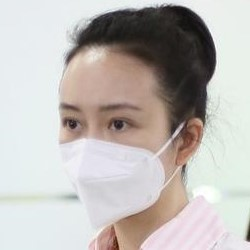mask: (55, 129, 167, 224)
